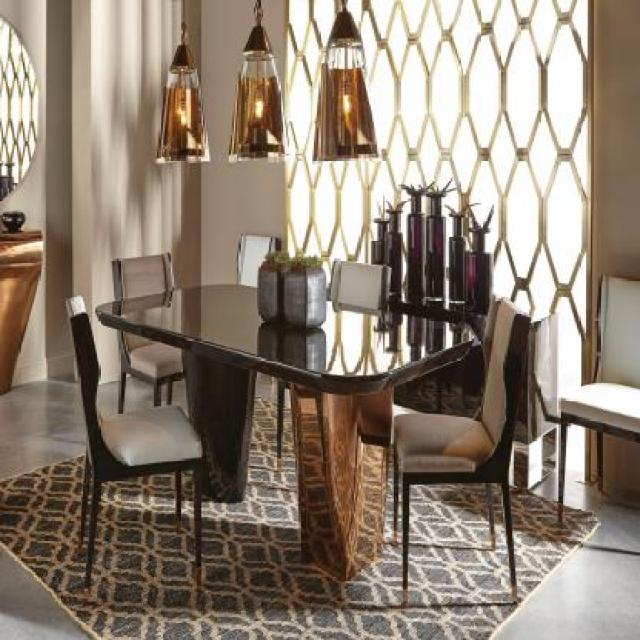floor: (0, 371, 640, 640), (336, 399, 360, 586), (353, 440, 381, 570), (301, 414, 319, 562)
